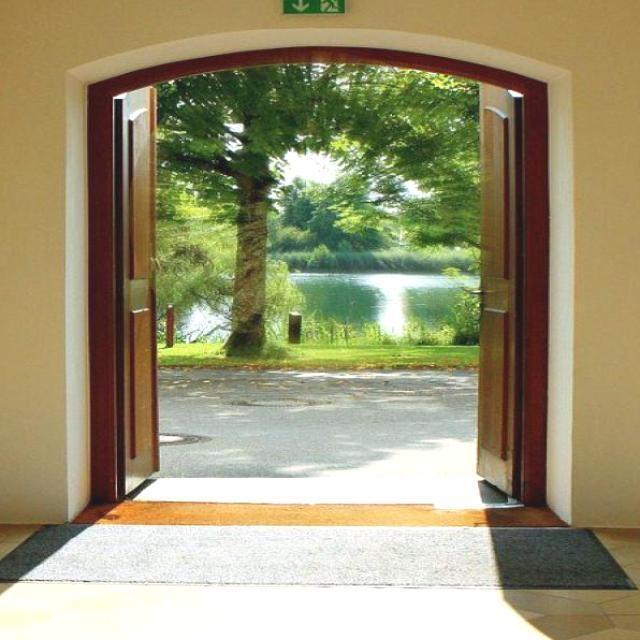door: (102, 78, 164, 492), (468, 68, 526, 502)
